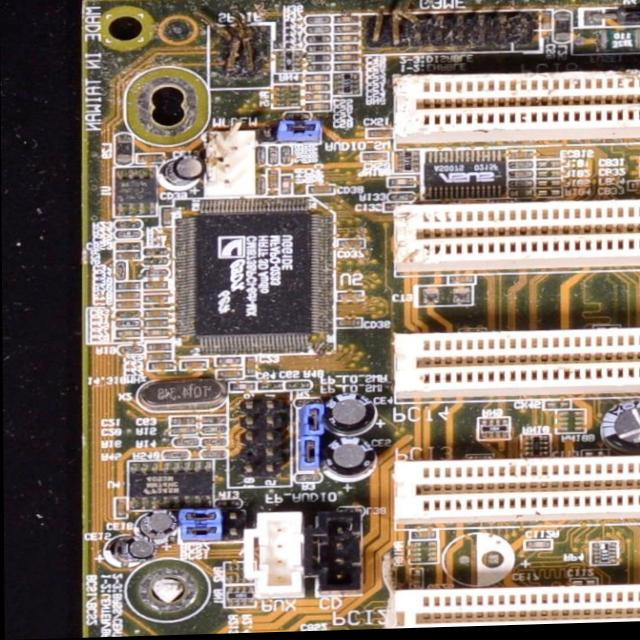IC: (173, 197, 338, 360), (125, 459, 215, 513)
capacitor: (594, 406, 640, 455), (102, 537, 159, 565), (133, 507, 180, 539), (334, 318, 366, 333), (144, 341, 174, 353), (140, 308, 170, 320), (141, 293, 171, 305), (384, 204, 414, 216), (522, 542, 551, 554), (255, 382, 284, 394), (180, 360, 209, 372), (113, 329, 144, 340), (145, 363, 175, 374), (307, 186, 336, 197), (360, 153, 389, 164), (332, 36, 361, 47), (141, 280, 169, 291), (115, 241, 143, 252), (366, 129, 394, 140), (169, 427, 199, 437), (534, 192, 564, 202), (278, 178, 293, 198), (143, 329, 170, 340), (113, 251, 142, 261), (167, 416, 199, 425), (228, 383, 254, 394), (144, 352, 172, 362), (535, 162, 563, 172), (114, 302, 141, 312), (333, 54, 360, 64), (334, 45, 361, 55), (333, 26, 360, 36), (333, 18, 360, 28), (335, 241, 364, 250), (535, 182, 561, 192), (267, 171, 280, 191), (113, 282, 141, 291), (116, 291, 141, 301), (304, 94, 331, 103), (535, 173, 561, 182), (334, 65, 360, 74), (305, 75, 330, 84), (216, 370, 244, 378), (305, 86, 332, 94), (144, 321, 170, 329), (306, 105, 329, 114), (198, 419, 227, 426)
connector: (389, 70, 640, 154), (393, 199, 640, 284), (385, 452, 640, 533), (384, 333, 640, 408), (390, 585, 640, 631)
resistor: (197, 426, 228, 437), (388, 193, 416, 205), (157, 451, 190, 461), (304, 18, 337, 28), (116, 219, 143, 231), (142, 257, 170, 268), (113, 231, 143, 241), (279, 147, 293, 168), (198, 450, 227, 460), (172, 439, 201, 449), (285, 382, 314, 392), (142, 248, 171, 258), (506, 192, 535, 202), (113, 319, 141, 329), (306, 26, 333, 36), (141, 269, 170, 278), (114, 262, 127, 282), (198, 439, 226, 448), (507, 182, 535, 191), (255, 178, 267, 199), (507, 172, 535, 181), (507, 164, 535, 173), (254, 148, 266, 168), (117, 346, 142, 355), (114, 311, 142, 319), (267, 149, 279, 167)
